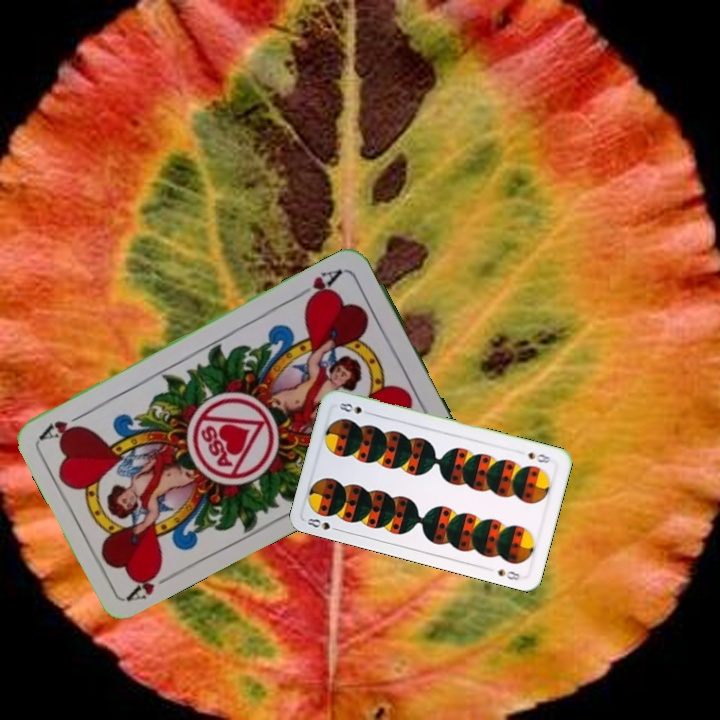HA: (123, 562, 179, 604), (293, 265, 345, 306)
S8: (303, 514, 343, 534), (524, 448, 553, 466)
